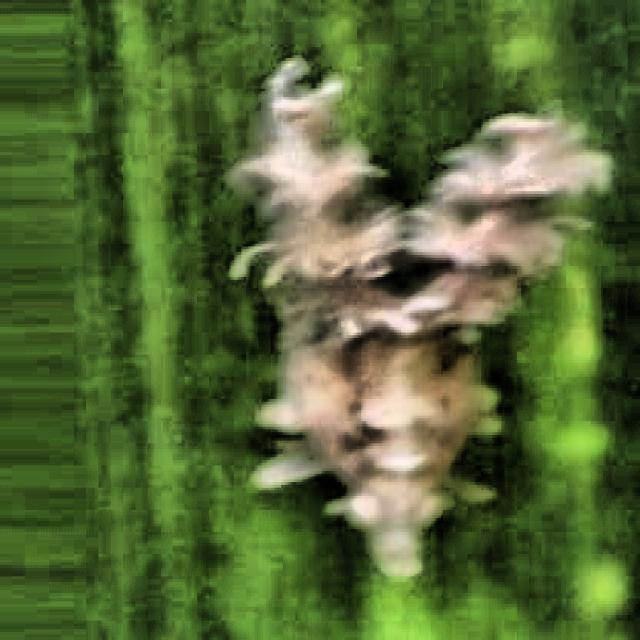Pyrilla-perpusilla: (209, 36, 599, 596)
